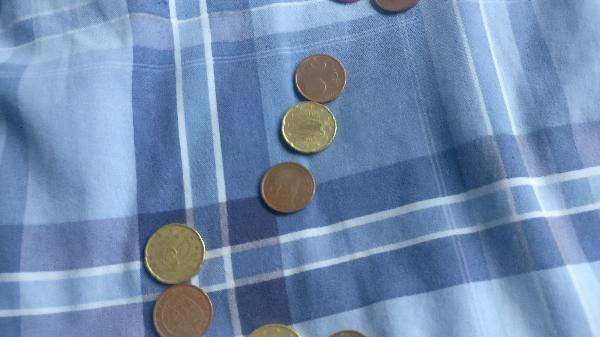Five Cent: (149, 283, 216, 334), (260, 164, 316, 213), (295, 54, 347, 103)
Ten Cent: (278, 99, 338, 154)
Twenty Cent: (140, 225, 210, 283)
